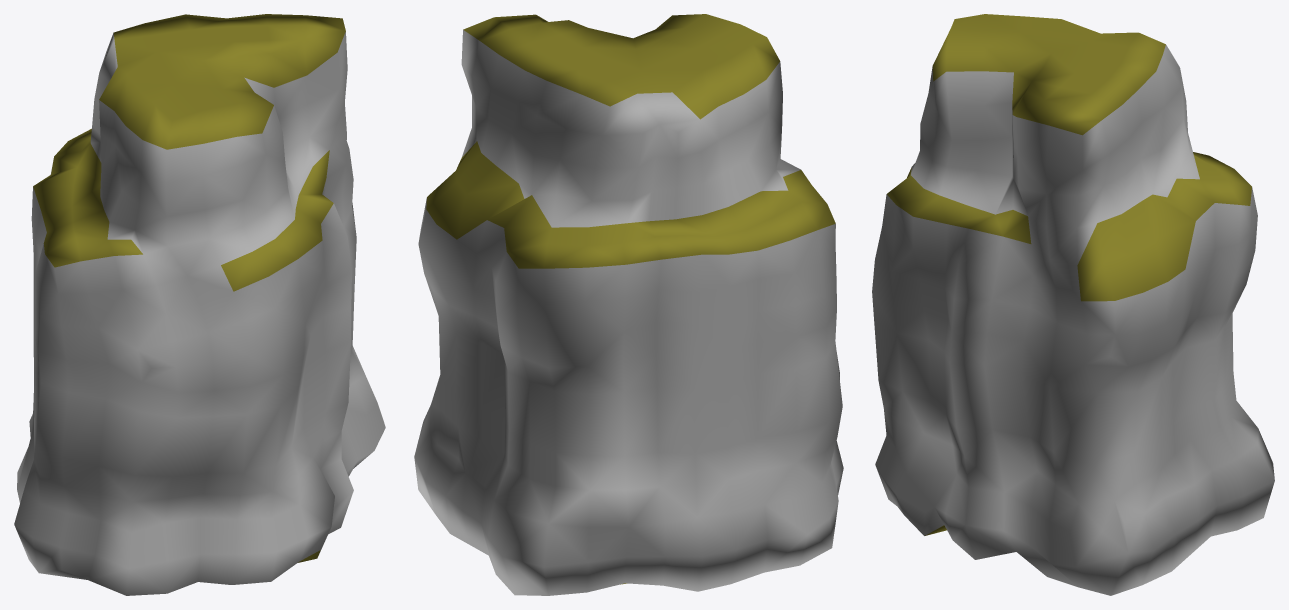
File: Montaña_media.fbx
The picture shows the model from 3 angles, left to right: view 1: azimuth 30°, elevation 25°; view 2: azimuth 150°, elevation 25°; view 3: azimuth 270°, elevation 25°; orthographic projection. The views are drawn at different scales.
Visible parts, largest first — view 1: Montaña_lowv2:Mesh; view 2: Montaña_lowv2:Mesh; view 3: Montaña_lowv2:Mesh.
Part boxes in pixels (x1=…): Montaña_lowv2:Mesh: x1=14, y1=14, x2=385, y2=595; Montaña_lowv2:Mesh: x1=414, y1=14, x2=843, y2=595; Montaña_lowv2:Mesh: x1=872, y1=14, x2=1274, y2=595.
Bounding box in the file's own units: 5.72 × 6.73 × 5.36.
